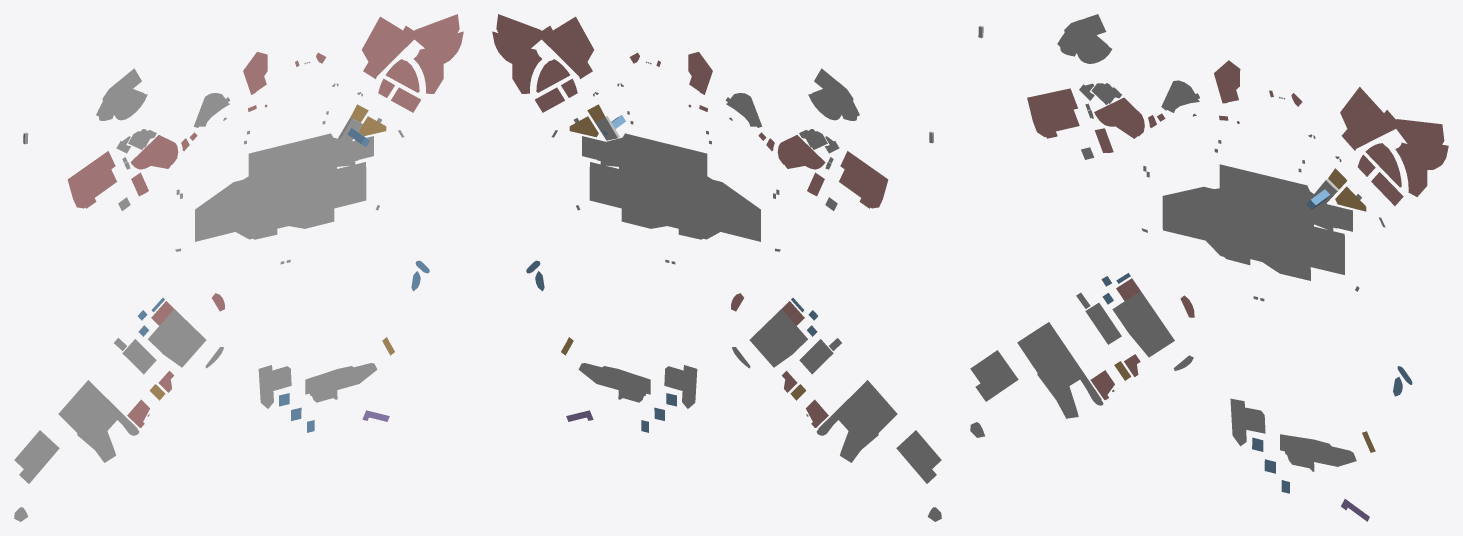
File: osm_buildings.glb
3 renders of one model, left to right at view 1: azimuth 30°, elevation 25°; view 2: azimuth 150°, elevation 25°; view 3: azimuth 330°, elevation 25°, orthographic. The views are drawn at different scales.
Visible parts, largest first — view 1: world; view 2: world; view 3: world.
Boxes of the visible parts, bbox=[...] form: world: bbox=[14, 14, 463, 521]; world: bbox=[492, 14, 941, 521]; world: bbox=[970, 14, 1448, 521].
Size of the model in its own units: 1329 by 1204 by 80.
